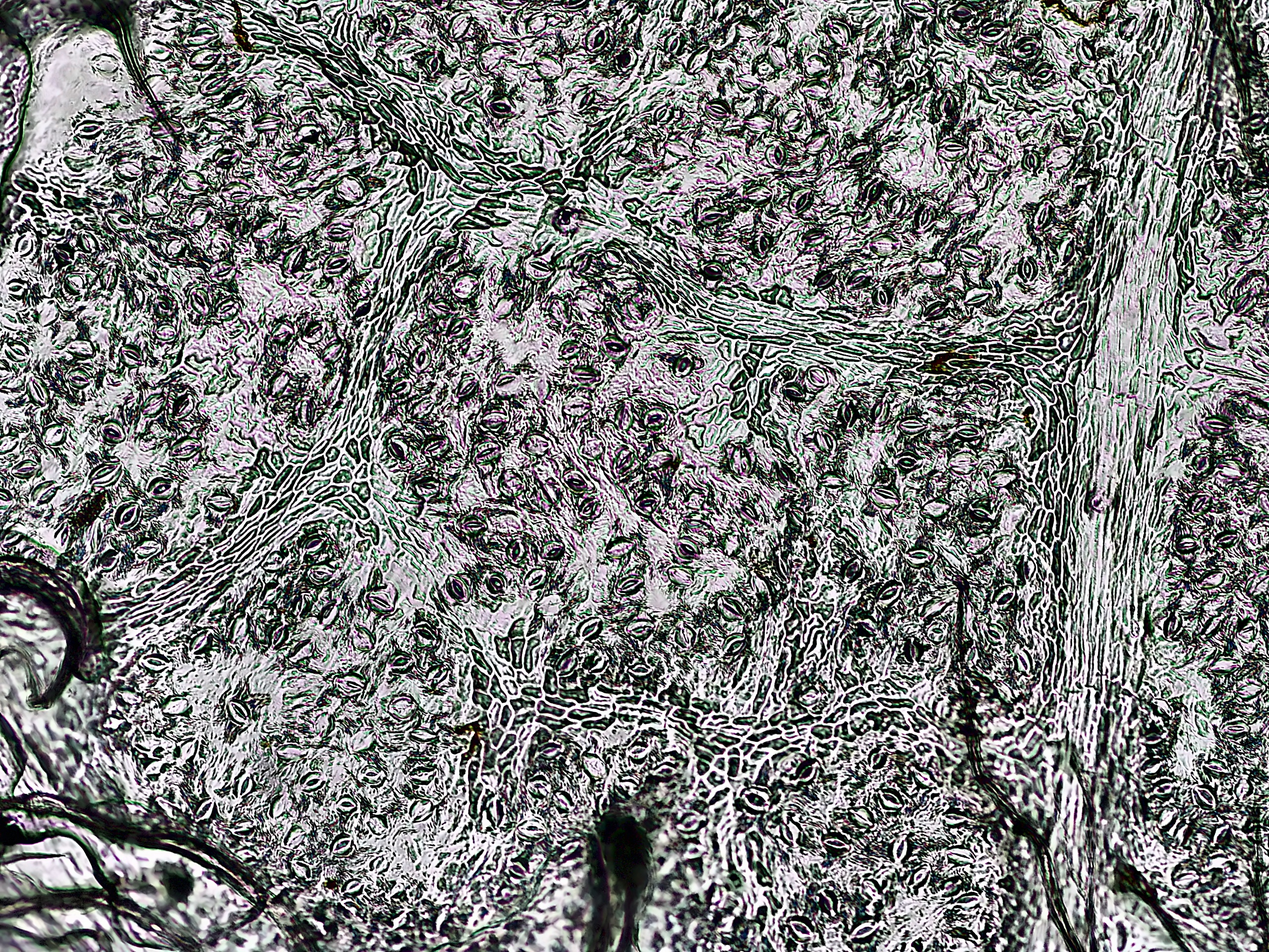stomata: (336, 173, 368, 203), (741, 784, 771, 816), (451, 270, 480, 303), (146, 476, 181, 503), (113, 502, 143, 532), (672, 811, 708, 836), (321, 250, 353, 278), (919, 298, 953, 324), (185, 22, 220, 47), (97, 417, 127, 446), (252, 214, 284, 241), (387, 694, 419, 721), (89, 462, 122, 488), (520, 433, 554, 458), (28, 480, 61, 505), (220, 179, 254, 203), (935, 138, 969, 162), (1031, 202, 1055, 236), (583, 24, 610, 54), (486, 93, 516, 120), (870, 483, 900, 510), (792, 760, 822, 787), (105, 209, 140, 232), (948, 451, 980, 476), (547, 296, 576, 323), (717, 597, 747, 623), (847, 919, 877, 945), (522, 256, 554, 280), (554, 650, 580, 679), (184, 630, 214, 655), (802, 54, 833, 78), (921, 498, 952, 522), (781, 817, 805, 848), (913, 201, 936, 233), (918, 258, 950, 281), (1209, 656, 1244, 677), (225, 698, 251, 726), (1232, 290, 1260, 316), (334, 672, 367, 694), (347, 728, 376, 753), (840, 556, 865, 585), (148, 118, 184, 138), (325, 218, 355, 242), (519, 817, 549, 841), (196, 73, 230, 94), (52, 521, 75, 552), (447, 574, 470, 605), (945, 843, 976, 866), (283, 245, 305, 277), (800, 80, 832, 102), (790, 185, 812, 217), (642, 451, 674, 473), (901, 0, 938, 19), (447, 12, 474, 38), (534, 53, 562, 78), (845, 144, 873, 169), (190, 795, 215, 823), (275, 148, 304, 172), (444, 318, 473, 342), (1012, 35, 1041, 59), (74, 121, 107, 142), (170, 436, 200, 459), (204, 490, 234, 513), (308, 564, 338, 587), (352, 624, 375, 654), (613, 447, 636, 477), (408, 765, 438, 788), (190, 48, 221, 70), (948, 1, 979, 23), (1201, 416, 1232, 438), (987, 468, 1021, 488), (720, 630, 746, 656), (571, 87, 596, 114), (267, 371, 291, 399), (409, 345, 433, 373), (616, 46, 640, 74), (826, 19, 850, 47), (868, 235, 900, 256), (282, 825, 310, 849), (213, 145, 242, 168), (687, 45, 710, 74), (40, 423, 69, 446), (895, 450, 924, 473), (788, 915, 811, 944), (978, 21, 1008, 43), (1076, 36, 1098, 66), (964, 285, 994, 307), (133, 536, 163, 558), (1216, 721, 1249, 741), (822, 833, 853, 854), (483, 407, 508, 433), (412, 622, 438, 647), (188, 205, 215, 229), (947, 197, 981, 216), (284, 177, 316, 197), (90, 52, 119, 74), (615, 574, 644, 596), (978, 152, 1008, 173), (277, 742, 307, 763), (171, 396, 196, 421), (960, 243, 985, 268), (764, 144, 788, 170), (1193, 785, 1217, 811), (144, 194, 171, 217), (812, 268, 839, 291), (634, 491, 661, 514), (875, 582, 902, 605), (705, 99, 733, 121), (744, 185, 772, 207), (1057, 239, 1079, 267), (232, 772, 254, 800), (817, 428, 839, 456), (674, 622, 696, 650), (818, 889, 840, 917), (878, 787, 906, 809), (1252, 23, 1269, 59), (67, 338, 96, 359), (906, 548, 935, 569), (29, 375, 48, 407), (300, 319, 325, 343), (320, 341, 344, 366), (9, 459, 39, 479), (606, 537, 636, 557), (581, 752, 605, 777), (1201, 614, 1225, 639), (115, 157, 141, 180), (296, 121, 322, 144), (662, 31, 685, 57), (422, 435, 448, 458), (643, 406, 669, 429), (625, 740, 651, 763), (936, 92, 958, 119), (750, 231, 772, 258), (300, 533, 327, 555), (614, 402, 632, 435), (313, 712, 335, 739), (627, 618, 654, 640), (1218, 460, 1249, 479), (37, 299, 58, 327), (574, 365, 602, 386), (565, 396, 593, 417), (744, 112, 773, 132), (695, 206, 724, 226), (523, 567, 547, 591), (409, 797, 433, 821), (386, 377, 411, 400), (926, 622, 951, 645), (983, 621, 1006, 646), (908, 865, 931, 890), (427, 663, 453, 685), (141, 653, 171, 672), (486, 798, 505, 828), (231, 816, 258, 837), (863, 176, 883, 204), (270, 623, 290, 651), (1163, 611, 1183, 639), (577, 616, 600, 640), (861, 878, 885, 901), (378, 8, 397, 37), (254, 113, 283, 132), (209, 261, 234, 283), (387, 437, 409, 462), (367, 590, 392, 612), (300, 771, 325, 793), (806, 364, 828, 389), (804, 130, 830, 151), (1016, 256, 1037, 282), (460, 513, 486, 534), (483, 574, 509, 595), (667, 566, 693, 587), (201, 116, 231, 134), (885, 192, 905, 219), (386, 651, 413, 671), (562, 470, 589, 490), (956, 424, 986, 442), (525, 775, 552, 795), (942, 808, 969, 828), (734, 73, 762, 92), (1236, 681, 1264, 700), (119, 345, 142, 368), (676, 539, 699, 562), (289, 859, 312, 882), (5, 276, 29, 298), (651, 103, 675, 125), (496, 371, 518, 395), (474, 443, 498, 465), (556, 337, 581, 358), (838, 402, 859, 427), (1243, 179, 1268, 200), (99, 260, 117, 289), (350, 293, 370, 319), (603, 338, 629, 358), (846, 269, 872, 289), (505, 538, 525, 564), (1204, 758, 1230, 778), (190, 288, 209, 315), (424, 48, 441, 78), (952, 893, 982, 910), (865, 59, 887, 82), (848, 807, 871, 829), (1191, 493, 1213, 516), (1097, 0, 1118, 24), (417, 476, 441, 497), (891, 836, 909, 864), (913, 767, 937, 788), (1198, 568, 1222, 589), (1139, 756, 1167, 774), (674, 353, 694, 378), (360, 764, 385, 784), (871, 400, 891, 425), (970, 502, 995, 522), (1234, 778, 1254, 803), (300, 397, 316, 428), (626, 660, 652, 679), (333, 134, 362, 151), (1018, 555, 1036, 582), (653, 763, 680, 781), (571, 252, 593, 274), (183, 171, 206, 192), (79, 230, 100, 253), (216, 296, 237, 319), (98, 552, 121, 573), (328, 832, 349, 855), (941, 875, 962, 898), (867, 748, 888, 771), (1211, 823, 1232, 846), (4, 340, 28, 360), (523, 12, 547, 32), (541, 541, 565, 561), (161, 698, 191, 714), (904, 637, 924, 661), (411, 727, 439, 744), (1120, 16, 1139, 41), (700, 259, 725, 278), (553, 787, 572, 812), (617, 777, 642, 796), (142, 394, 163, 416), (784, 109, 805, 131), (455, 376, 475, 399), (873, 287, 893, 310), (801, 229, 828, 246), (321, 600, 338, 627), (899, 419, 926, 436), (224, 91, 248, 110), (1157, 805, 1176, 829), (769, 44, 787, 69), (1219, 159, 1237, 184), (0, 428, 17, 454), (1034, 62, 1055, 83), (993, 586, 1014, 607), (272, 323, 292, 345), (366, 814, 388, 834), (52, 246, 75, 265), (63, 274, 86, 293), (1138, 732, 1167, 747), (1214, 530, 1238, 548), (15, 230, 32, 255), (1014, 650, 1031, 675), (1190, 452, 1210, 473), (1154, 779, 1175, 799), (1023, 151, 1042, 173), (578, 499, 600, 518), (711, 0, 731, 20), (798, 686, 818, 706), (165, 238, 186, 257), (784, 384, 805, 403), (431, 298, 453, 316), (820, 474, 848, 488), (605, 248, 624, 268), (342, 877, 362, 896), (334, 795, 355, 813), (368, 855, 389, 873), (976, 379, 997, 397), (539, 741, 561, 758), (1176, 536, 1198, 553), (1239, 621, 1256, 643), (597, 792, 613, 815), (271, 794, 285, 820), (777, 466, 796, 485), (125, 287, 141, 309), (156, 324, 174, 343), (154, 298, 173, 315), (67, 372, 90, 386), (0, 486, 16, 506), (787, 507, 804, 525), (1250, 529, 1265, 549), (1224, 227, 1239, 245), (562, 0, 588, 10), (740, 505, 756, 520), (764, 0, 785, 10)
